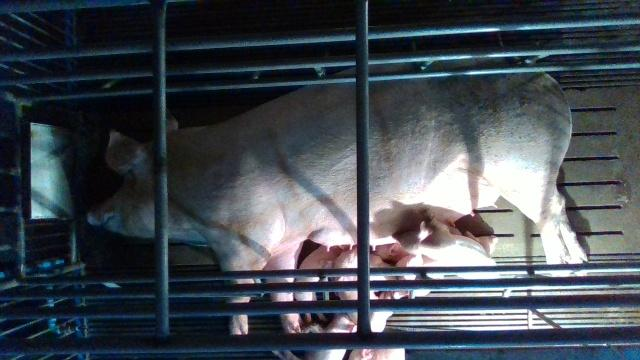piglet: (397, 219, 498, 278), (326, 246, 392, 332), (267, 315, 355, 359), (295, 245, 339, 324)
sow-sleep-lactate: (87, 66, 588, 333)
